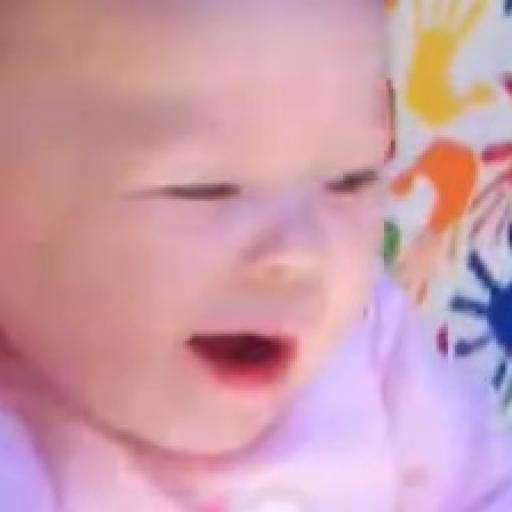Autism: (51, 22, 362, 512)
